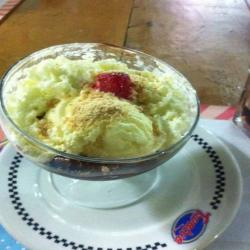icecream: (4, 42, 202, 181)
